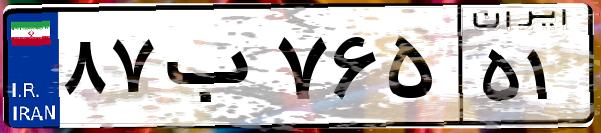1: (525, 38, 570, 115)
5: (385, 28, 445, 110), (475, 38, 525, 113)
6: (330, 28, 385, 110)
7: (270, 28, 330, 110), (110, 28, 158, 98)
8: (57, 26, 110, 100)
ب: (158, 20, 270, 120)
